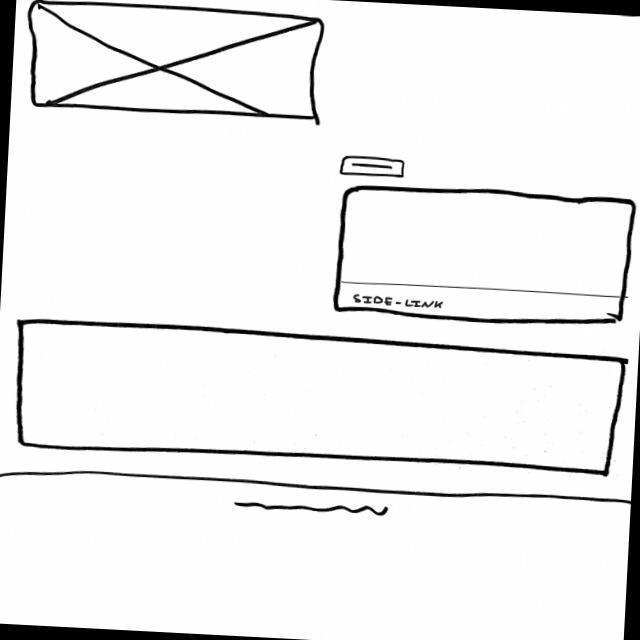container: (7, 318, 630, 481), (326, 180, 640, 336)
icon-button: (334, 151, 410, 183)
image: (24, 1, 331, 126)
label: (347, 292, 450, 313)
text: (229, 498, 395, 523)
